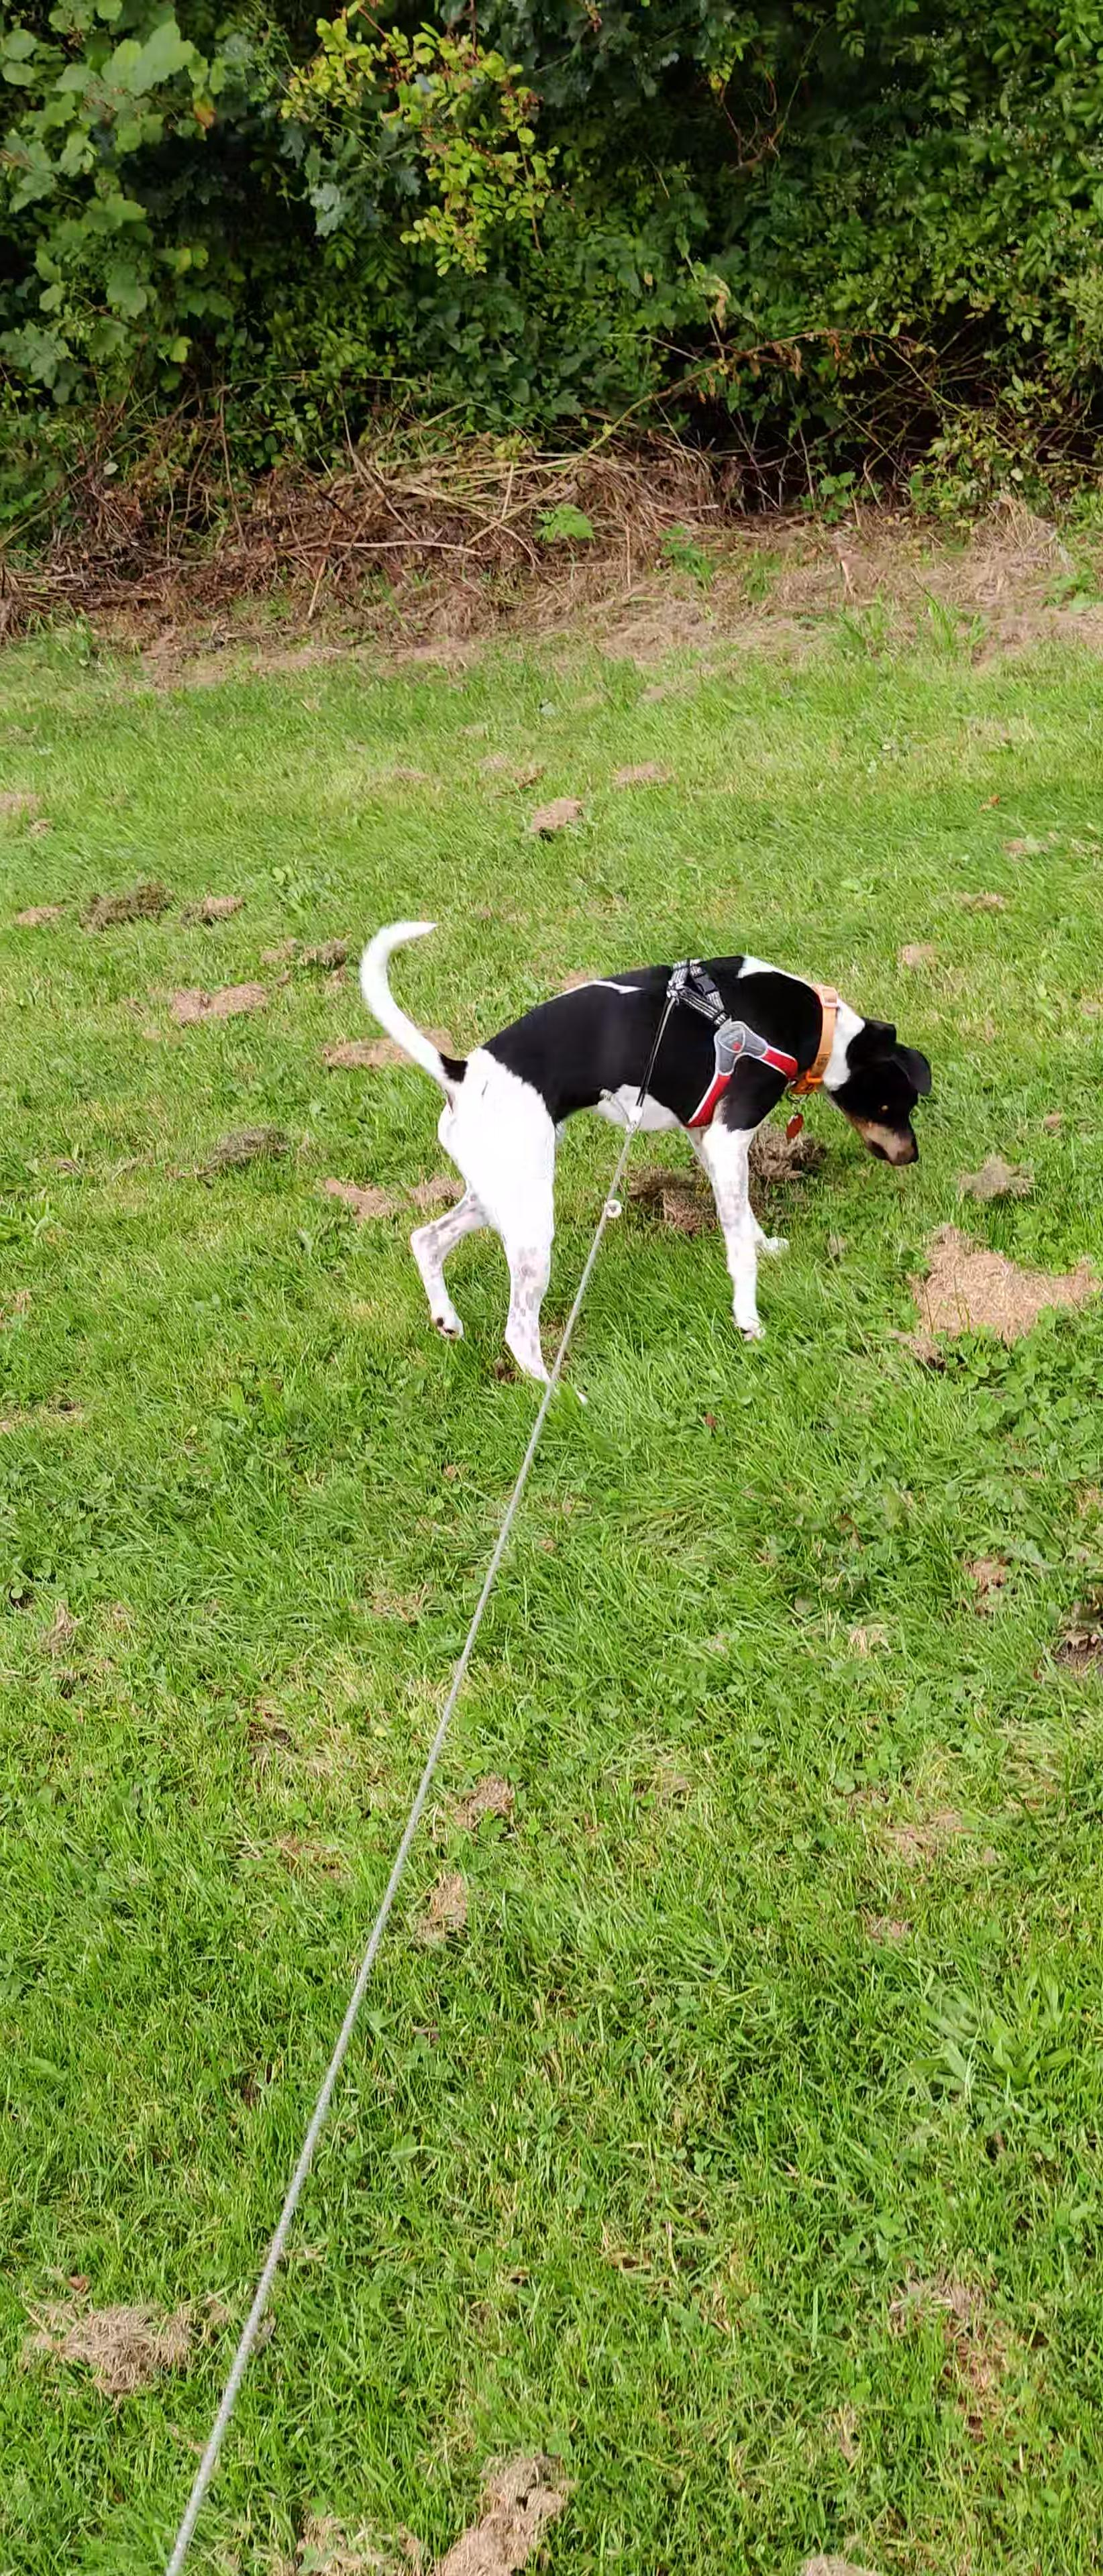Dog: (325, 904, 945, 1398)
